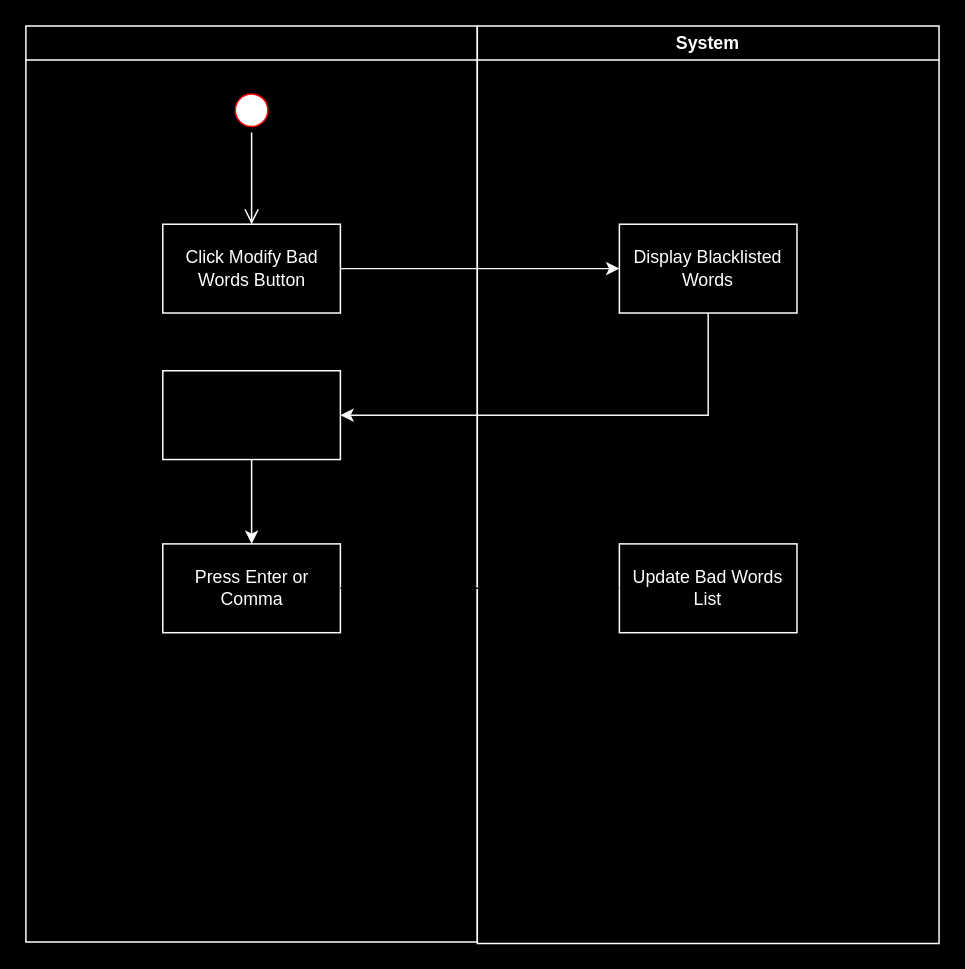
Image size: 965x969. Some labels were removed from this diagram. The box of each missing label's shape, as (x1, y1, x2, y2) in pixels:
Admin: (24, 24, 477, 942)
Type a Bad Word: (161, 369, 340, 460)
